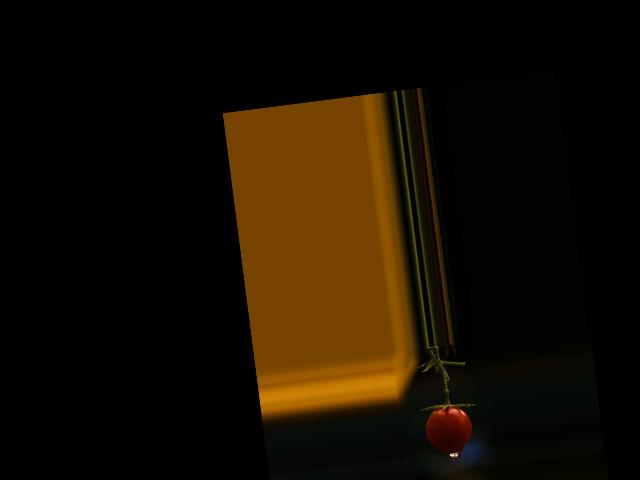tomato: (424, 403, 475, 454)
